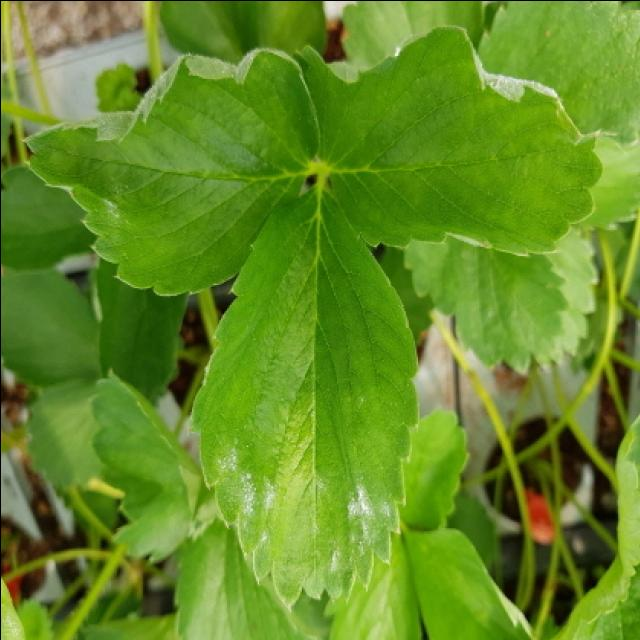Powdery Mildew Leaf: (188, 177, 420, 613), (22, 45, 323, 296), (287, 21, 604, 257)
